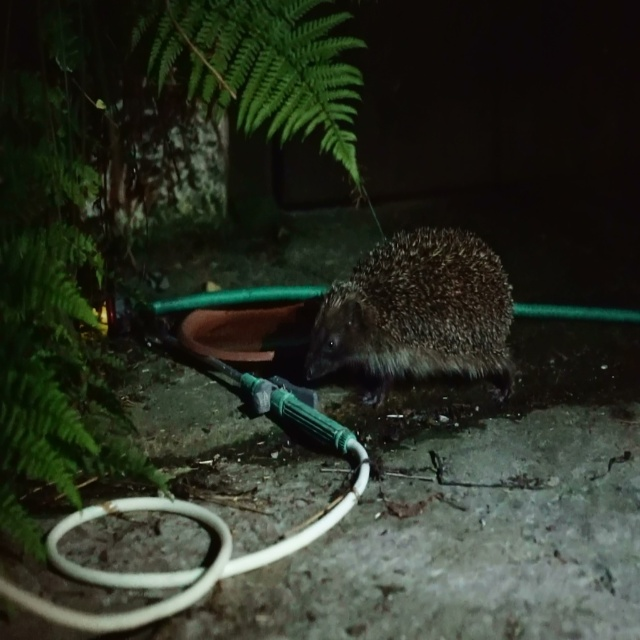Hedgehog: (300, 222, 518, 405)
